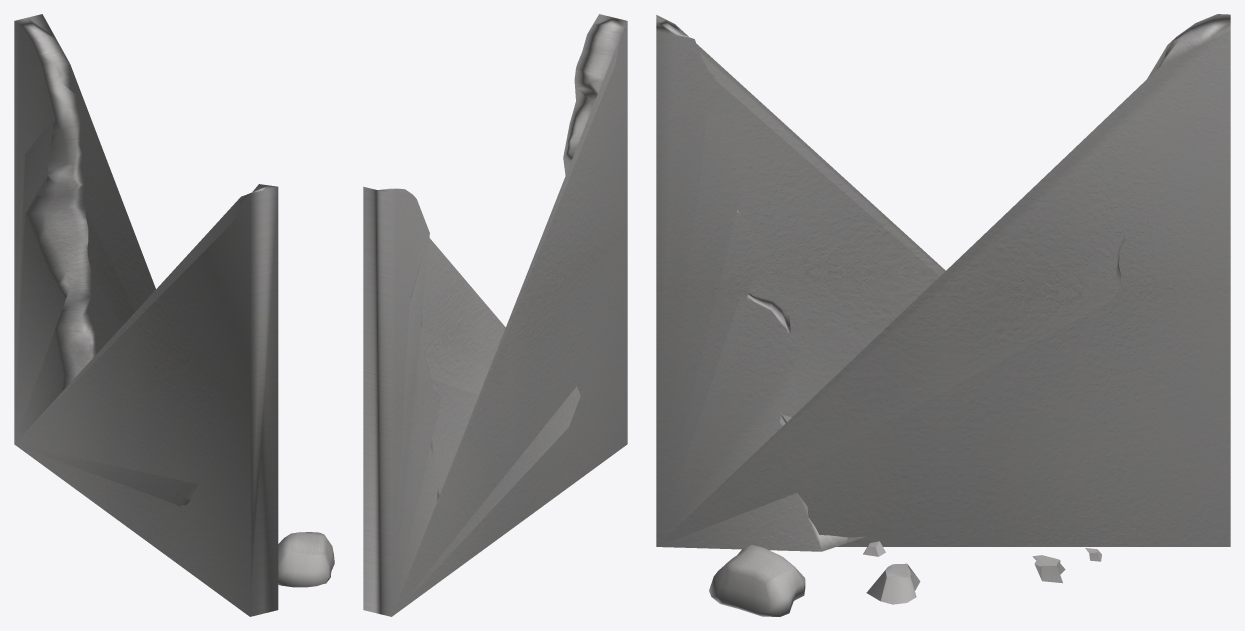
The model's file is wall_broken.fbx.
3 views of the same model, side by side, from view 1: azimuth 30°, elevation 25°; view 2: azimuth 150°, elevation 25°; view 3: azimuth 270°, elevation 25° (orthographic). The views are drawn at different scales.
Visible parts, largest first — view 1: pCube8; view 2: pCube8; view 3: pCube8.
Part boxes in pixels (x1,y1,x2,y2): pCube8: (14, 14, 334, 616); pCube8: (363, 14, 627, 616); pCube8: (656, 14, 1230, 616).
Bounding box in the file's own units: 0.7092 × 2.05 × 2.02.
1 material, 1 textured.
